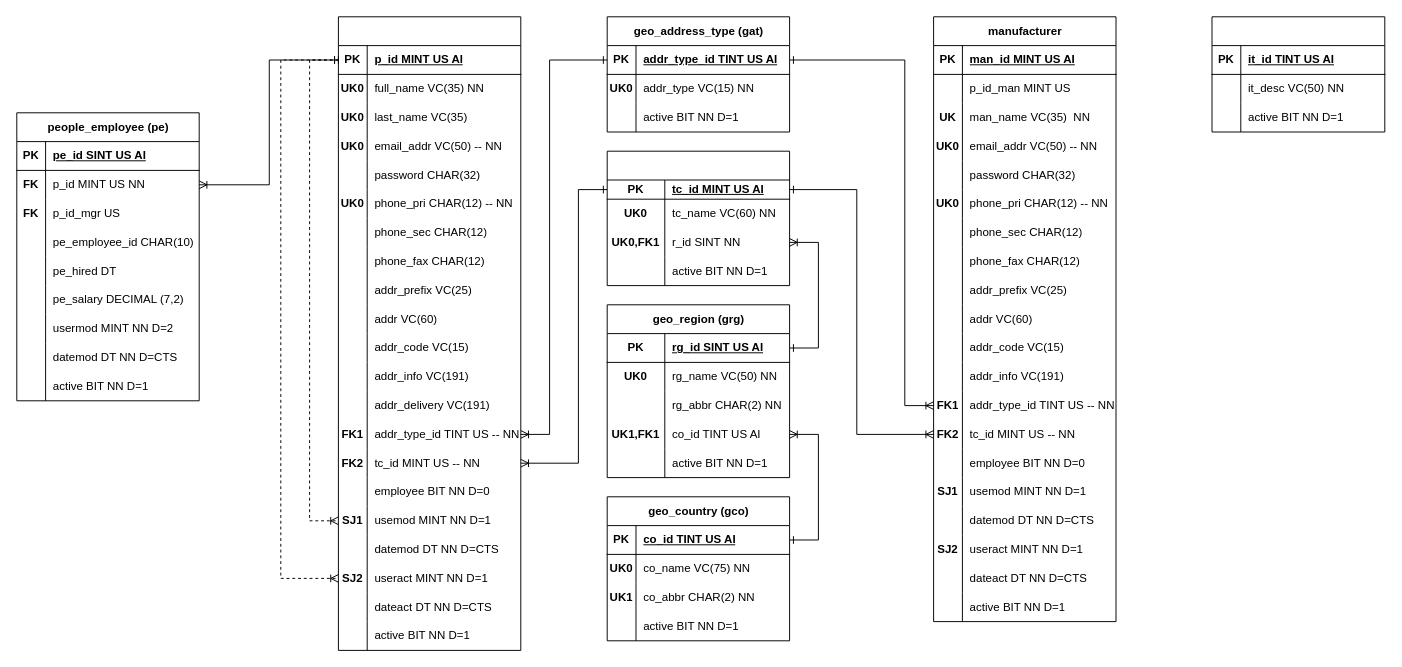
Some shapes in this 1402 by 667 pixel diagram are drawn without their labels. The box of each missing label's shape, as (x1, y1, x2, y2) in pixels:
geo_towncity (gtc): (606, 150, 790, 286)
item_type: (1211, 16, 1385, 132)
people: (337, 16, 521, 650)
